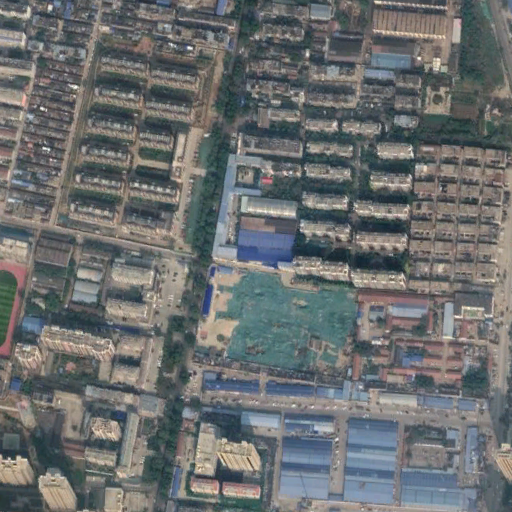cw: (217, 264, 355, 377)
